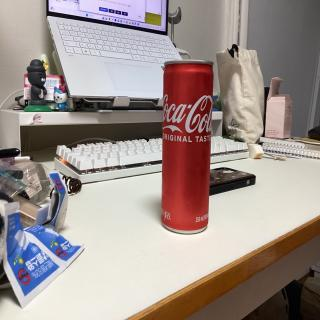cocacola: (160, 55, 217, 235)
